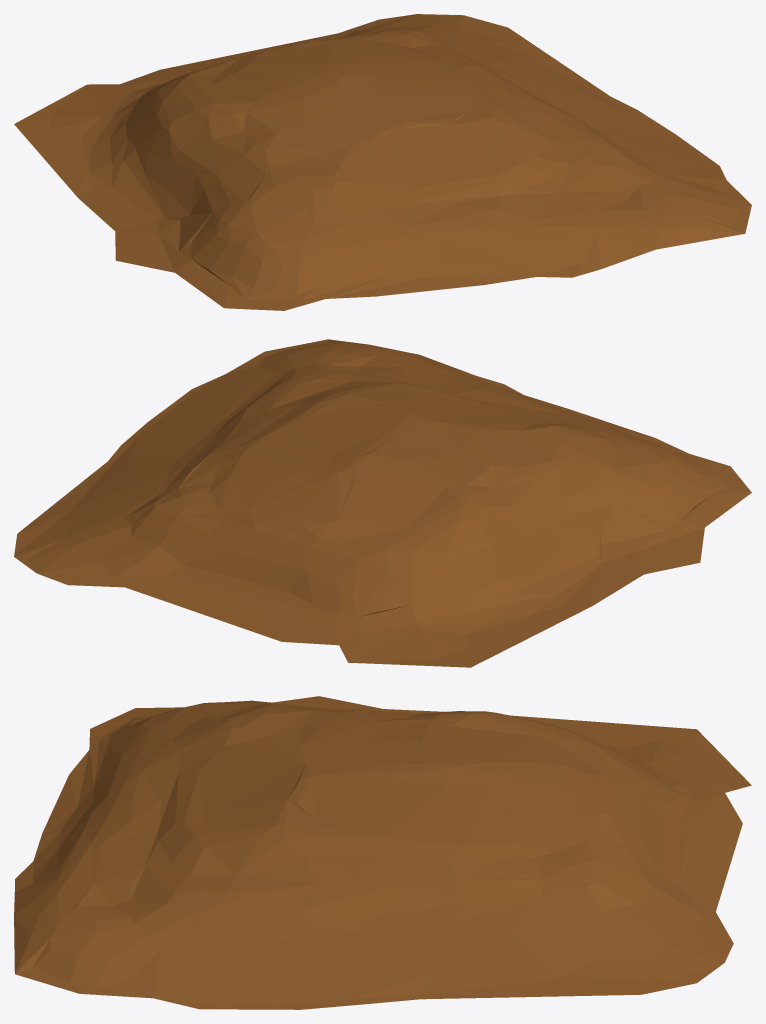
The model's file is Terrain 03.FBX.
The picture shows the model from 3 angles, top to bottom: view 1: azimuth 30°, elevation 25°; view 2: azimuth 150°, elevation 25°; view 3: azimuth 270°, elevation 25°; orthographic projection. The views are drawn at different scales.
Parts seen in each view (by area): view 1: plane; view 2: plane; view 3: plane.
Boxes of the visible parts, x1=… form: plane: x1=14, y1=14, x2=751, y2=310; plane: x1=14, y1=339, x2=751, y2=667; plane: x1=14, y1=696, x2=751, y2=1009.
Size of the model in its own units: 118 by 16.02 by 118.
